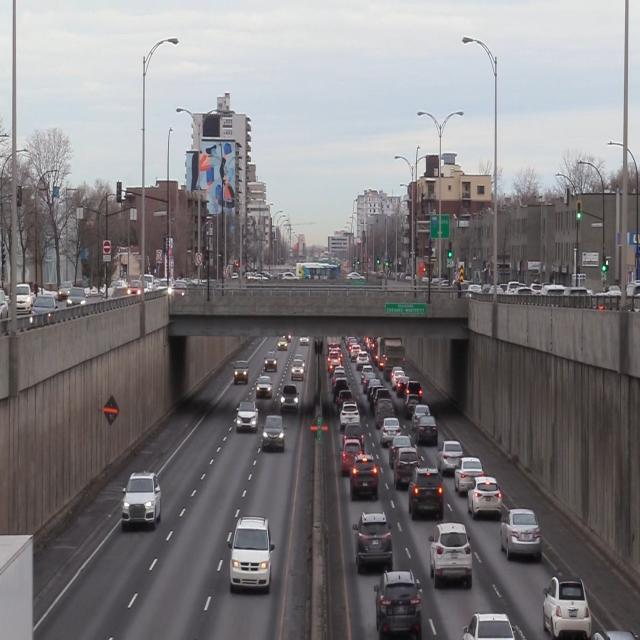Car: (228, 514, 274, 594), (542, 576, 592, 640), (373, 573, 424, 635), (429, 521, 475, 589), (120, 469, 162, 531), (353, 516, 395, 570), (502, 510, 543, 562), (408, 466, 445, 519), (467, 475, 503, 519), (350, 456, 380, 501), (456, 456, 483, 495), (394, 448, 419, 486), (438, 439, 464, 474), (263, 413, 285, 450), (236, 400, 260, 433), (418, 416, 439, 447), (280, 384, 299, 411)
